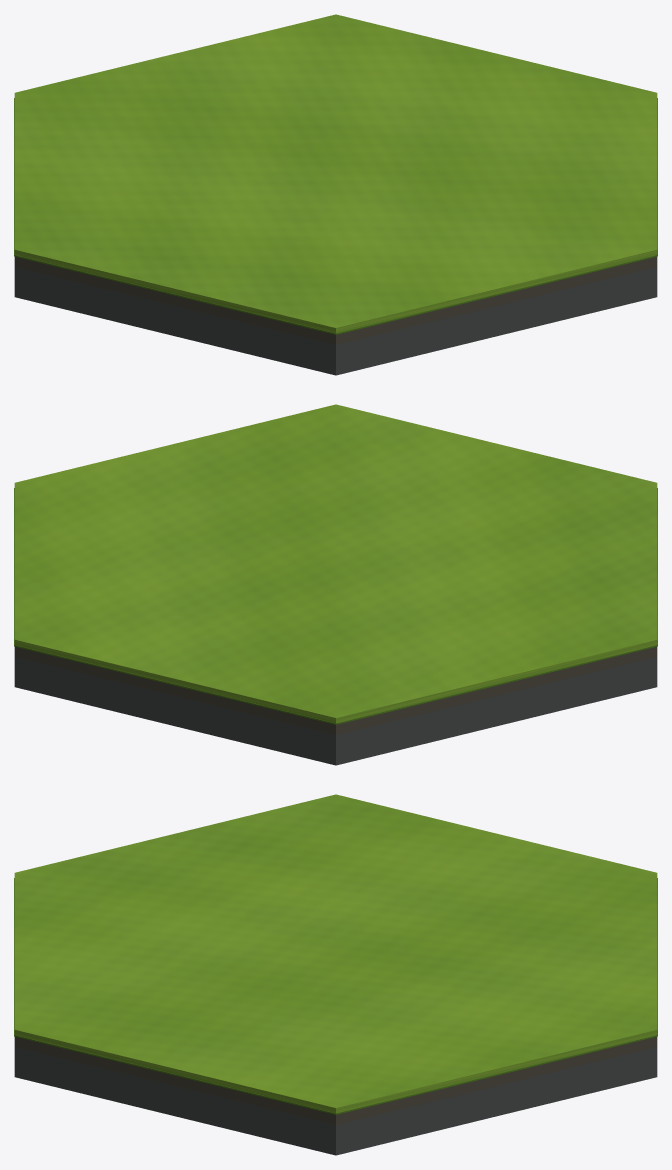
File: forest_hex_meadow.glb
3 views of the same model, one above another, from view 1: azimuth 30°, elevation 25°; view 2: azimuth 150°, elevation 25°; view 3: azimuth 270°, elevation 25° (orthographic).
Visible parts, largest first — view 1: Standard hex meadow top, Standard hex stone foundation, Standard hex earth layer, Thin meadow rim shadow.003, Thin meadow rim shadow.004; view 2: Standard hex meadow top, Standard hex stone foundation, Standard hex earth layer, Thin meadow rim shadow.001, Thin meadow rim shadow.002; view 3: Standard hex meadow top, Standard hex stone foundation, Standard hex earth layer, Thin meadow rim shadow, Thin meadow rim shadow.005.
Boxes of the visible parts, x1,y1,x2,y2 form: Standard hex meadow top: (14, 14, 657, 333); Standard hex stone foundation: (14, 267, 657, 375); Standard hex earth layer: (14, 256, 657, 344); Thin meadow rim shadow.003: (14, 255, 335, 334); Thin meadow rim shadow.004: (336, 255, 657, 334); Standard hex meadow top: (14, 404, 657, 723); Standard hex stone foundation: (14, 657, 657, 765); Standard hex earth layer: (14, 646, 657, 734); Thin meadow rim shadow.001: (14, 645, 335, 724); Thin meadow rim shadow.002: (336, 645, 657, 724); Standard hex meadow top: (14, 794, 657, 1113); Standard hex stone foundation: (14, 1047, 657, 1155); Standard hex earth layer: (14, 1036, 657, 1124); Thin meadow rim shadow: (336, 1035, 657, 1114); Thin meadow rim shadow.005: (14, 1035, 335, 1114).
Bounding box in the file's own units: 5.11 × 0.36 × 4.42.
4 materials, 2 textured.
